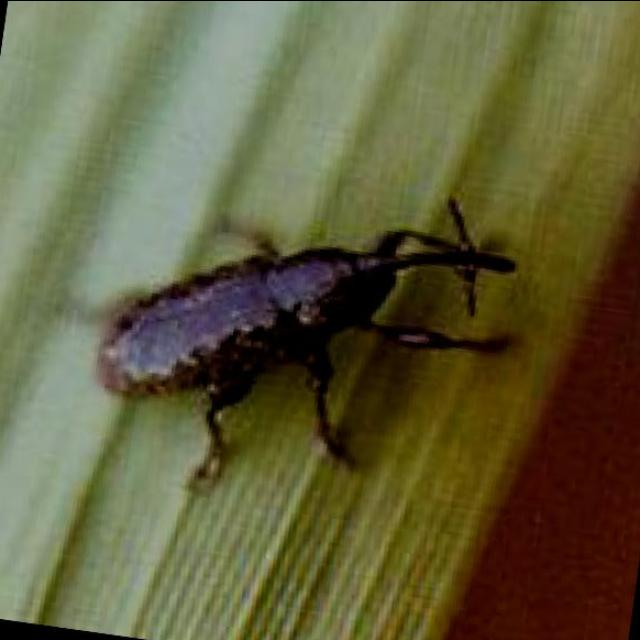ricebug: (96, 200, 515, 489)
